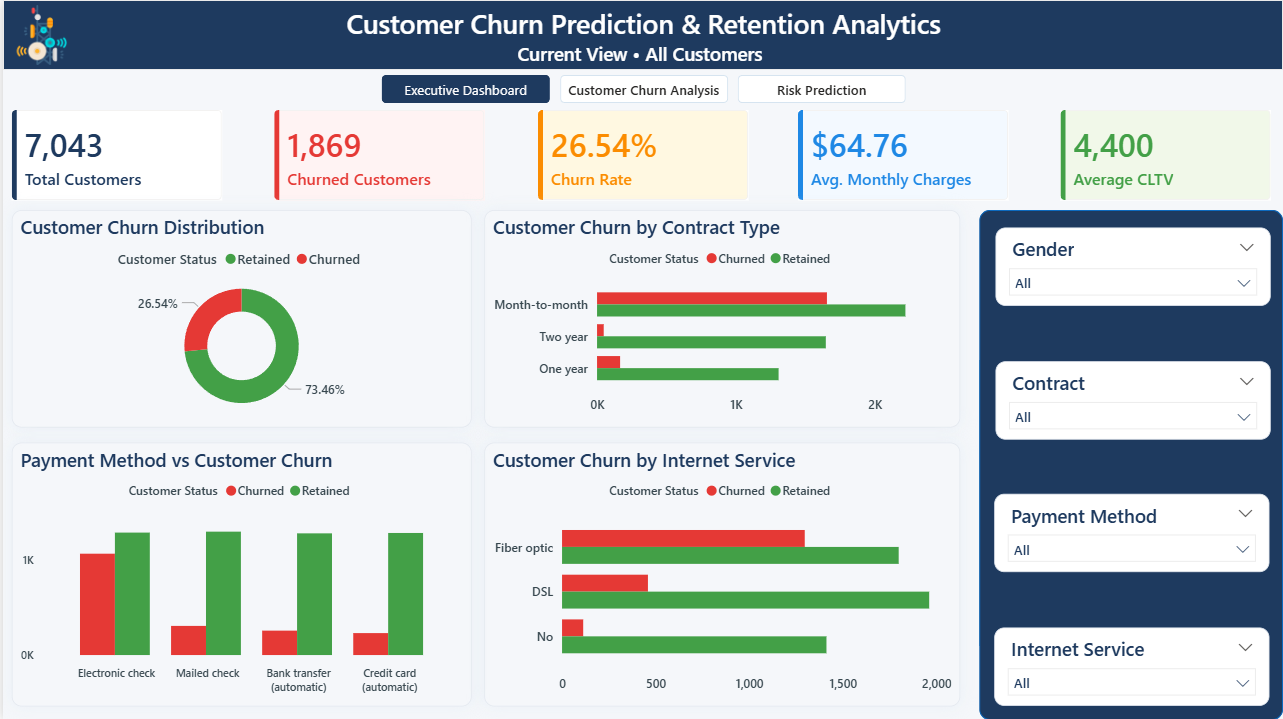

This screenshot's page, from the dashboard's own definition file:
{"tool":"powerbi","page":{"name":"Executive Dashboard","canvas":[1280,720],"ordinal":0},"visuals":[{"type":"shape","box":[0,0,1280,70],"z":0},{"type":"textbox","box":[246.2,0,788.8,52.5],"z":1000},{"type":"image","box":[8.8,5,60,60],"z":2000},{"type":"cardVisual","fields":{"Data":["customer_churn_with_risk.Total Customers"]},"box":[8.8,110,210,90],"z":3000},{"type":"cardVisual","fields":{"Data":["customer_churn_with_risk.Average Monthly Charges"]},"box":[795,110,210,90],"z":4000},{"type":"cardVisual","fields":{"Data":["customer_churn_with_risk.Churn Rate"]},"box":[535,110,210,90],"z":5000},{"type":"cardVisual","fields":{"Data":["customer_churn_with_risk.Churned Customers"]},"box":[271.2,110,210,90],"z":6000},{"type":"cardVisual","fields":{"Data":["customer_churn_with_risk.Average CLTV"]},"box":[1057.5,110,210,90],"z":7000},{"type":"donutChart","title":"Customer Churn Distribution","fields":{"Y":["CountNonNull(customer_churn_with_risk.CustomerID)"],"Category":["customer_churn_with_risk.Customer Status"]},"box":[8.8,210,460,217.5],"z":8000},{"type":"clusteredBarChart","title":"Customer Churn by Contract Type","fields":{"Category":["customer_churn_with_risk.Contract"],"Y":["CountNonNull(customer_churn_with_risk.CustomerID)"],"Series":["customer_churn_with_risk.Customer Status"]},"box":[481.2,210,476.2,217.5],"z":9000},{"type":"clusteredColumnChart","title":"Payment Method vs Customer Churn","fields":{"Category":["customer_churn_with_risk.Payment_Method"],"Y":["CountNonNull(customer_churn_with_risk.CustomerID)"],"Series":["customer_churn_with_risk.Customer Status"]},"box":[8.8,442.5,460,263.8],"z":10000},{"type":"clusteredBarChart","title":"Customer Churn by Internet Service","fields":{"Category":["customer_churn_with_risk.Internet_Service"],"Y":["CountNonNull(customer_churn_with_risk.CustomerID)"],"Series":["customer_churn_with_risk.Customer Status"]},"box":[481.2,442.5,476.2,263.8],"z":11000},{"type":"shape","box":[976.2,210,303.8,510],"z":12000},{"type":"slicer","fields":{"Values":["customer_churn_with_risk.Gender"]},"box":[992.5,227.5,275,78.8],"z":13000},{"type":"slicer","fields":{"Values":["customer_churn_with_risk.Internet_Service"]},"box":[991.2,627.5,275,78.8],"z":14000},{"type":"slicer","fields":{"Values":["customer_churn_with_risk.Payment_Method"]},"box":[991.2,494.2,275,78.8],"z":15000},{"type":"slicer","fields":{"Values":["customer_churn_with_risk.Contract"]},"box":[992.5,360.8,275,78.8],"z":16000},{"type":"cardVisual","fields":{"Data":["customer_churn_with_risk.Selected Filters"]},"box":[502.5,28.8,277.5,46.2],"z":17000},{"type":"pageNavigator","box":[378.8,75,525,28.8],"z":17002}]}

Visuals, with their boxes in screenshot pixels (x1, y1, x2, y2), scaled from the page's 1280x720 canvas onto the 1283x719 screenshot:
shape: [0,0,1282,70]
textbox: [247,0,1037,52]
image: [9,5,69,65]
cardVisual - customer_churn_with_risk.Total Customers: [9,110,219,200]
cardVisual - customer_churn_with_risk.Average Monthly Charges: [797,110,1007,200]
cardVisual - customer_churn_with_risk.Churn Rate: [536,110,747,200]
cardVisual - customer_churn_with_risk.Churned Customers: [272,110,482,200]
cardVisual - customer_churn_with_risk.Average CLTV: [1060,110,1270,200]
"Customer Churn Distribution" donutChart: [9,210,470,427]
"Customer Churn by Contract Type" clusteredBarChart: [482,210,960,427]
"Payment Method vs Customer Churn" clusteredColumnChart: [9,442,470,705]
"Customer Churn by Internet Service" clusteredBarChart: [482,442,960,705]
shape: [978,210,1282,718]
slicer - customer_churn_with_risk.Gender: [995,227,1270,306]
slicer - customer_churn_with_risk.Internet_Service: [994,627,1269,705]
slicer - customer_churn_with_risk.Payment_Method: [994,494,1269,572]
slicer - customer_churn_with_risk.Contract: [995,360,1270,439]
cardVisual - customer_churn_with_risk.Selected Filters: [504,29,782,75]
pageNavigator: [380,75,906,104]
